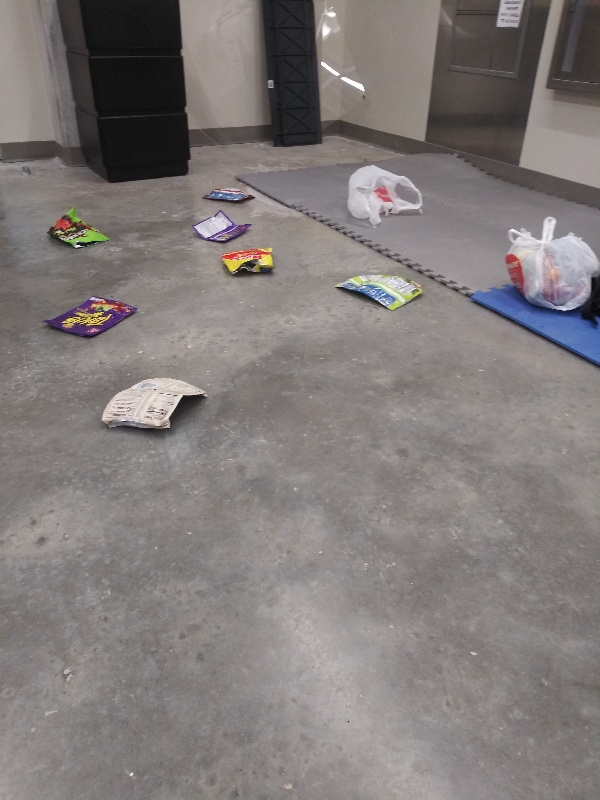bag: (96, 375, 215, 437), (43, 294, 143, 343), (331, 271, 427, 313), (47, 204, 115, 251), (187, 208, 255, 246), (214, 246, 278, 279), (200, 184, 256, 206)
